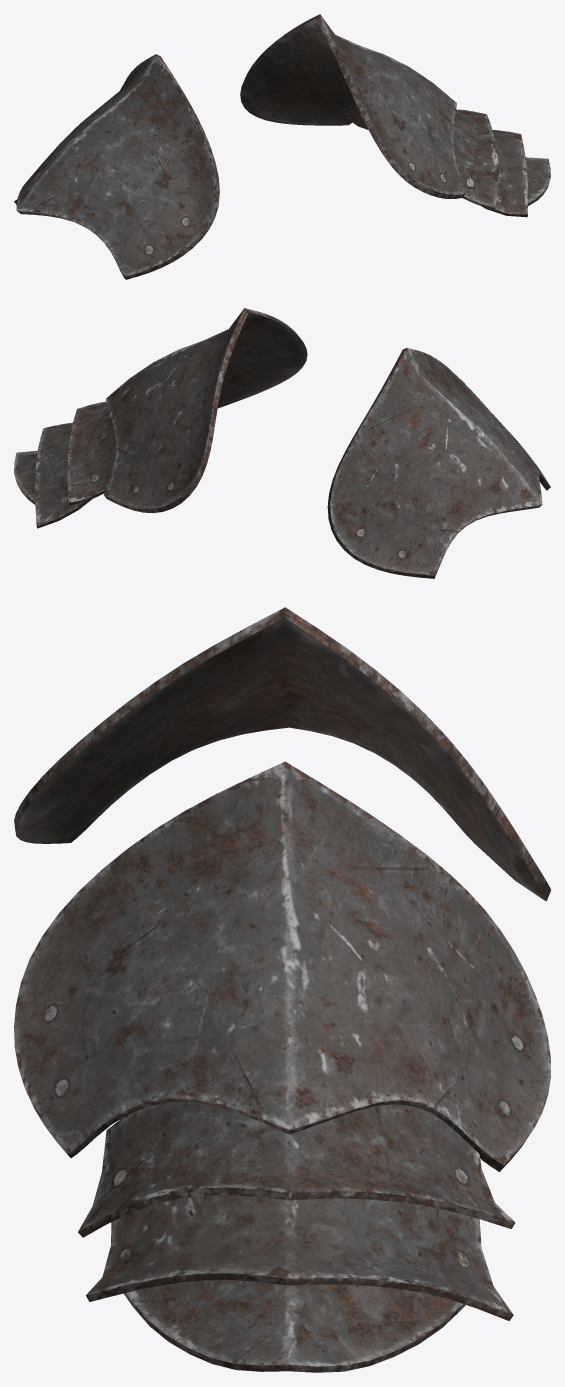
The model's file is sk_gb_uruk_pauldron_elite_c.fbx.
3 views of the same model, one above another, from view 1: azimuth 30°, elevation 25°; view 2: azimuth 150°, elevation 25°; view 3: azimuth 270°, elevation 25° (orthographic). The views are drawn at different scales.
Visible parts, largest first — view 1: sk_gb_uruk_pauldron_elite_c; view 2: sk_gb_uruk_pauldron_elite_c; view 3: sk_gb_uruk_pauldron_elite_c.
Part boxes in pixels (<box>): sk_gb_uruk_pauldron_elite_c: <box>14,14,550,279</box>; sk_gb_uruk_pauldron_elite_c: <box>14,308,550,578</box>; sk_gb_uruk_pauldron_elite_c: <box>14,607,550,1372</box>.
Size of the model in its own units: 0.7493 by 0.3402 by 0.2922.
Materials: 1 (1 with a texture image).
